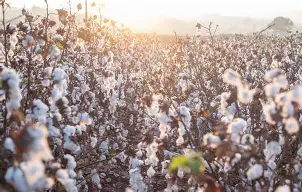crops: (0, 1, 298, 190)
